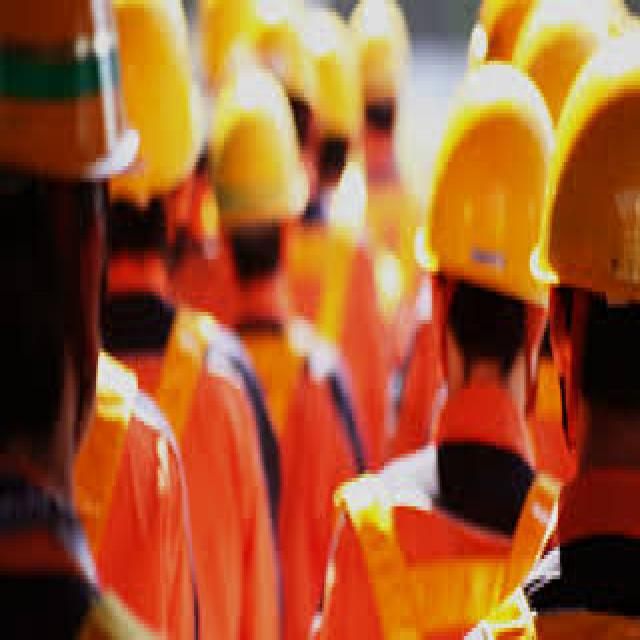Reflective-Jacket: (328, 457, 538, 640)
Safety-Helmet: (416, 65, 554, 316), (530, 45, 640, 320), (0, 0, 144, 198), (206, 57, 306, 239)
